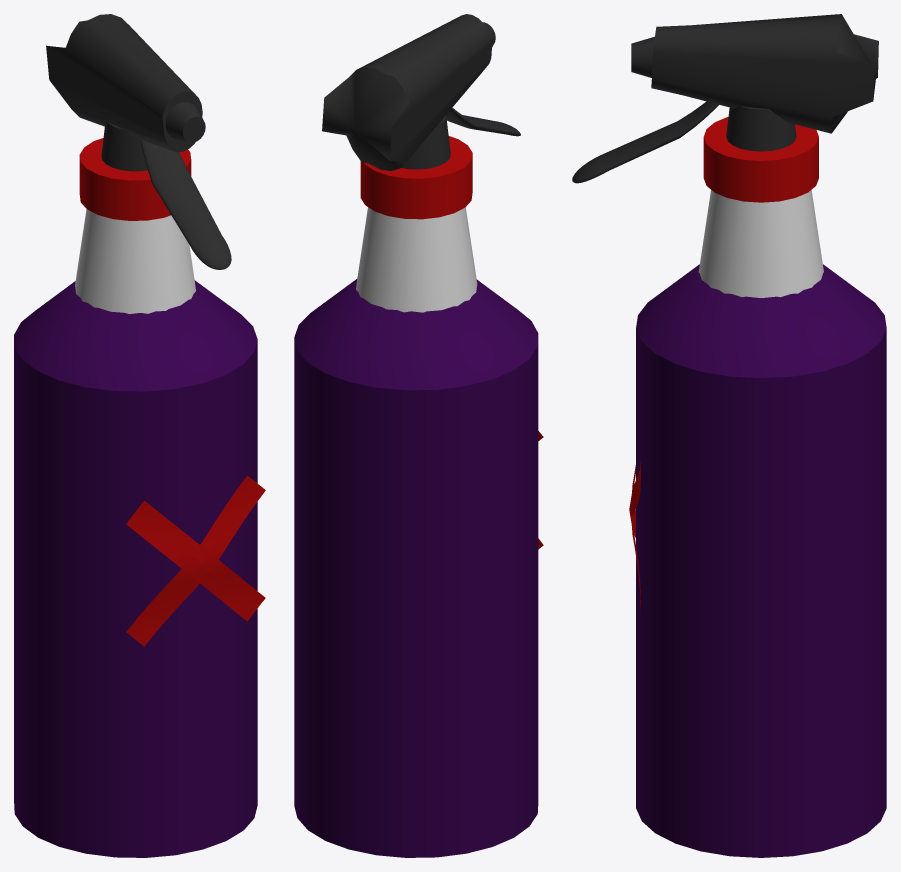
The model's file is SPRAYHHW.fbx.
The picture shows the model from 3 angles, left to right: view 1: azimuth 30°, elevation 25°; view 2: azimuth 150°, elevation 25°; view 3: azimuth 270°, elevation 25°; orthographic projection. The views are drawn at different scales.
Visible parts, largest first — view 1: pCylinder6; view 2: pCylinder6; view 3: pCylinder6.
Part boxes in pixels (x1,y1,x2,y2): pCylinder6: (14, 14, 265, 857); pCylinder6: (294, 14, 543, 857); pCylinder6: (572, 14, 886, 857).
Bounding box in the file's own units: 5.94 × 20.54 × 7.46.
